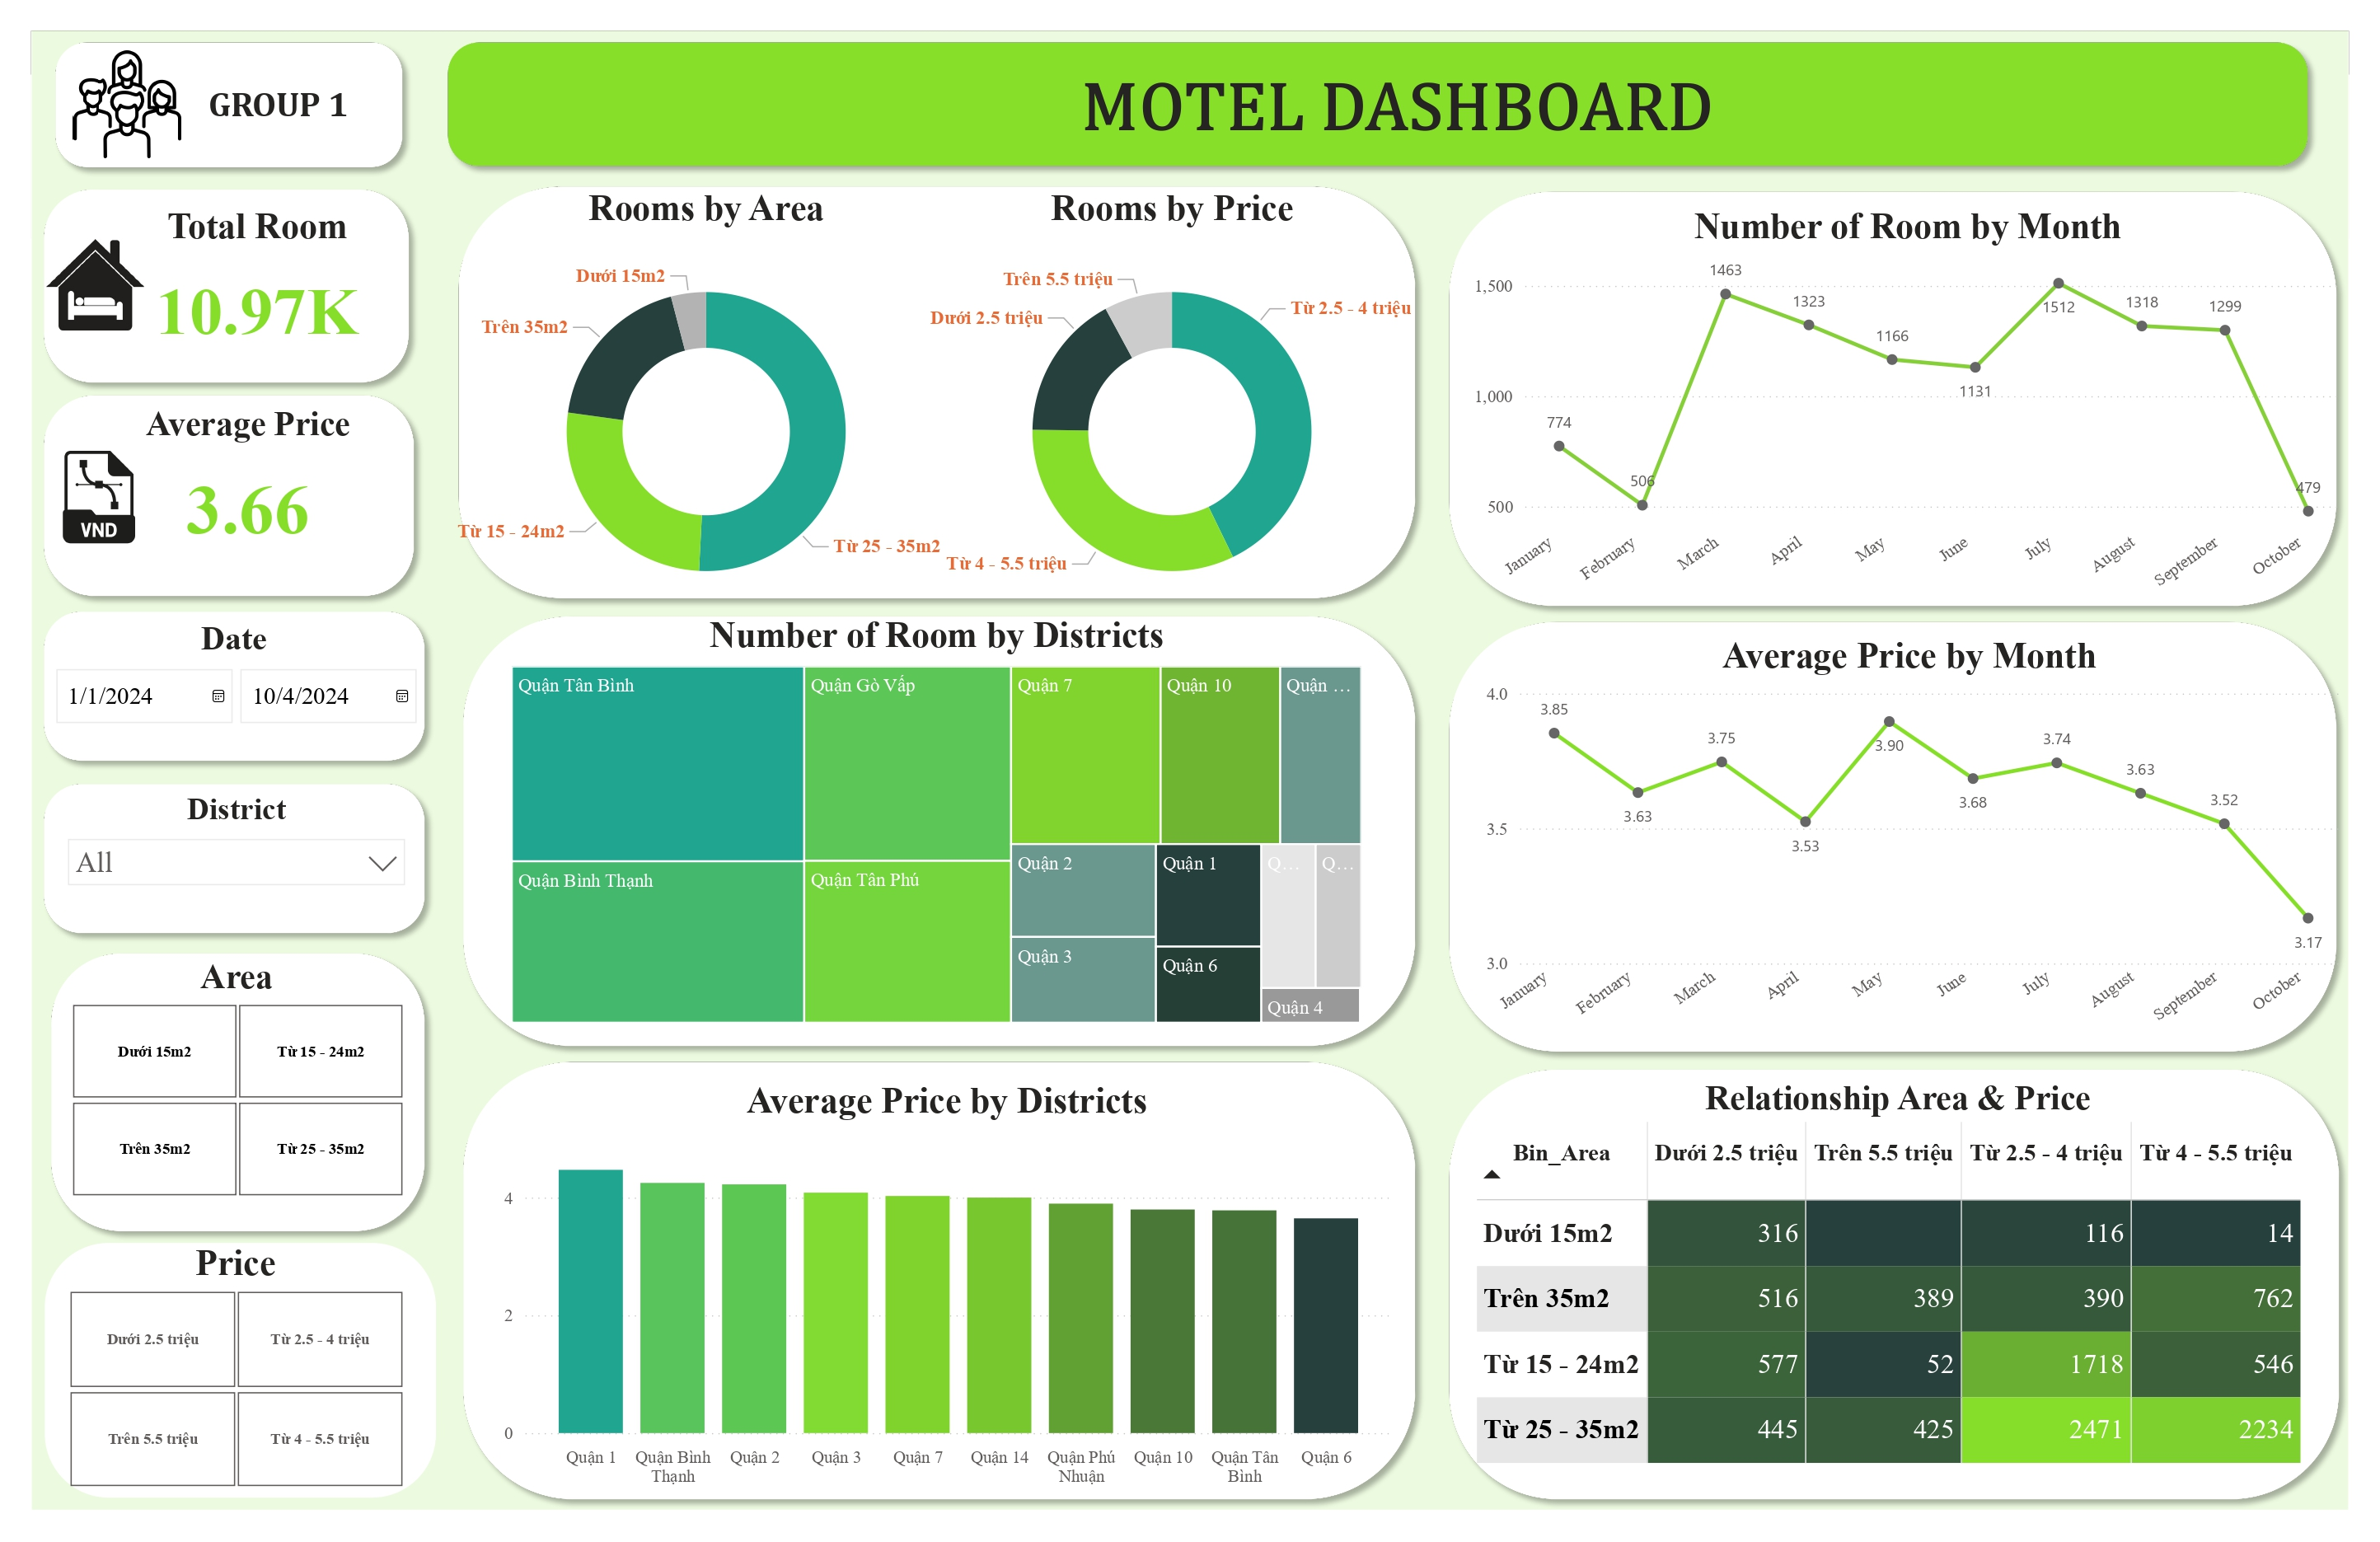

The page's visual inventory and layout, read from the dashboard file:
{"tool":"powerbi","page":{"name":"Page 1","canvas":[1800,1150],"ordinal":0},"visuals":[{"type":"shape","box":[0,114,302,168],"z":0},{"type":"shape","box":[313.7,0,1464.7,113.7],"z":1000},{"type":"shape","box":[9.1,0,288.2,114.5],"z":2000},{"type":"shape","box":[322,112,762,338],"z":3000},{"type":"shape","box":[0,274,306,174],"z":4000},{"type":"shape","box":[10,942,304,198],"z":5000},{"type":"shape","box":[326,446,758,352],"z":6000},{"type":"shape","box":[326,792,758,358],"z":7000},{"type":"shape","box":[1092,116,708,340],"z":8000},{"type":"shape","box":[1092,450,708,352],"z":9000},{"type":"card","title":"Total Room","fields":{"Values":["Count(Room (2).room_id)"]},"box":[52,136,246,124],"z":10000},{"type":"card","title":"Average Price","fields":{"Values":["Avg(Room (2).price)"]},"box":[40,290,256,124],"z":11000},{"type":"shape","box":[0,576,314,134],"z":12000},{"type":"shape","box":[6,708,308,234],"z":13000},{"type":"shape","box":[0,442,314,134],"z":14000},{"type":"slicer","title":"District","fields":{"Values":["District (2).Distric Name"]},"box":[18,592,282,118],"z":15000},{"type":"slicer","title":"Area","fields":{"Values":["Room (2).Bin_Area"]},"box":[6,720,306,192],"z":16000},{"type":"areaChart","title":"      Average Price by Month","fields":{"Category":["Room (2).published_date.Variation.Date Hierarchy.Month"],"Y":["Avg(Room (2).price)"]},"box":[1118,470,682,322],"z":17000},{"type":"areaChart","title":"Number of Room by Month","fields":{"Category":["Room (2).published_date.Variation.Date Hierarchy.Month"],"Y":["CountNonNull(Room (2).room_id)"]},"box":[1116,136,684,318],"z":18000},{"type":"columnChart","title":"Average Price by Districts","fields":{"Y":["Avg(Room (2).price)"],"Category":["District (2).Distric Name"]},"box":[360,816,702,324],"z":19000},{"type":"donutChart","title":"Rooms by Area","fields":{"Category":["Room (2).Bin_Area"],"Y":["CountNonNull(Room (2).room_id)"]},"box":[326,122,396,348],"z":20000},{"type":"slicer","title":"Date","fields":{"Values":["Room.published_date"]},"box":[6,458,302,96],"z":21000},{"type":"textbox","box":[344.1,26.8,1434.5,87.2],"z":22000},{"type":"textbox","box":[103.3,35.6,176.7,58.9],"z":23000},{"type":"image","box":[8,318,88,88],"z":24000},{"type":"image","box":[13.9,10,118.9,93.9],"z":25000},{"type":"image","box":[6,152,86,90],"z":26000},{"type":"treemap","title":"Number of Room by Districts","fields":{"Group":["District (2).Distric Name"],"Values":["CountNonNull(Room.room_id)"]},"box":[368,454,670,322],"z":27000},{"type":"shape","box":[1092,798,710,352],"z":28000},{"type":"pivotTable","title":"Relationship Area & Price","fields":{"Rows":["Room.Bin_Area"],"Columns":["Room.Bin_Price"],"Values":["Count(Room.room_id)"]},"box":[1118,814,664,324],"z":29000},{"type":"donutChart","title":"Rooms by Price","fields":{"Category":["Room.Bin_Price"],"Y":["CountNonNull(Room (2).room_id)"]},"box":[688,122,396,348],"z":30000},{"type":"slicer","title":"Price","fields":{"Values":["Room.Bin_Price"]},"box":[4,942,308,196],"z":31000}]}

Visuals, with their boxes in screenshot pixels (x1, y1, x2, y2):
shape: pyautogui.locateOnScreen(31, 178, 419, 394)
shape: pyautogui.locateOnScreen(435, 30, 2321, 177)
shape: pyautogui.locateOnScreen(43, 30, 414, 178)
shape: pyautogui.locateOnScreen(446, 175, 1427, 610)
shape: pyautogui.locateOnScreen(31, 383, 425, 607)
shape: pyautogui.locateOnScreen(44, 1244, 435, 1498)
shape: pyautogui.locateOnScreen(451, 605, 1427, 1058)
shape: pyautogui.locateOnScreen(451, 1050, 1427, 1512)
shape: pyautogui.locateOnScreen(1437, 180, 2349, 618)
shape: pyautogui.locateOnScreen(1437, 610, 2349, 1063)
"Total Room" card: pyautogui.locateOnScreen(98, 206, 415, 366)
"Average Price" card: pyautogui.locateOnScreen(82, 404, 412, 564)
shape: pyautogui.locateOnScreen(31, 772, 435, 944)
shape: pyautogui.locateOnScreen(39, 942, 435, 1244)
shape: pyautogui.locateOnScreen(31, 600, 435, 772)
"District" slicer: pyautogui.locateOnScreen(54, 793, 417, 944)
"Area" slicer: pyautogui.locateOnScreen(39, 958, 433, 1205)
"      Average Price by Month" areaChart: pyautogui.locateOnScreen(1471, 636, 2349, 1050)
"Number of Room by Month" areaChart: pyautogui.locateOnScreen(1469, 206, 2349, 616)
"Average Price by Districts" columnChart: pyautogui.locateOnScreen(494, 1081, 1398, 1498)
"Rooms by Area" donutChart: pyautogui.locateOnScreen(451, 188, 961, 636)
"Date" slicer: pyautogui.locateOnScreen(39, 621, 428, 744)
textbox: pyautogui.locateOnScreen(474, 65, 2321, 178)
textbox: pyautogui.locateOnScreen(164, 77, 391, 152)
image: pyautogui.locateOnScreen(41, 440, 155, 554)
image: pyautogui.locateOnScreen(49, 44, 202, 165)
image: pyautogui.locateOnScreen(39, 227, 149, 342)
"Number of Room by Districts" treemap: pyautogui.locateOnScreen(505, 616, 1368, 1029)
shape: pyautogui.locateOnScreen(1437, 1058, 2349, 1512)
"Relationship Area & Price" pivotTable: pyautogui.locateOnScreen(1471, 1079, 2326, 1496)
"Rooms by Price" donutChart: pyautogui.locateOnScreen(917, 188, 1427, 636)
"Price" slicer: pyautogui.locateOnScreen(36, 1244, 433, 1496)
